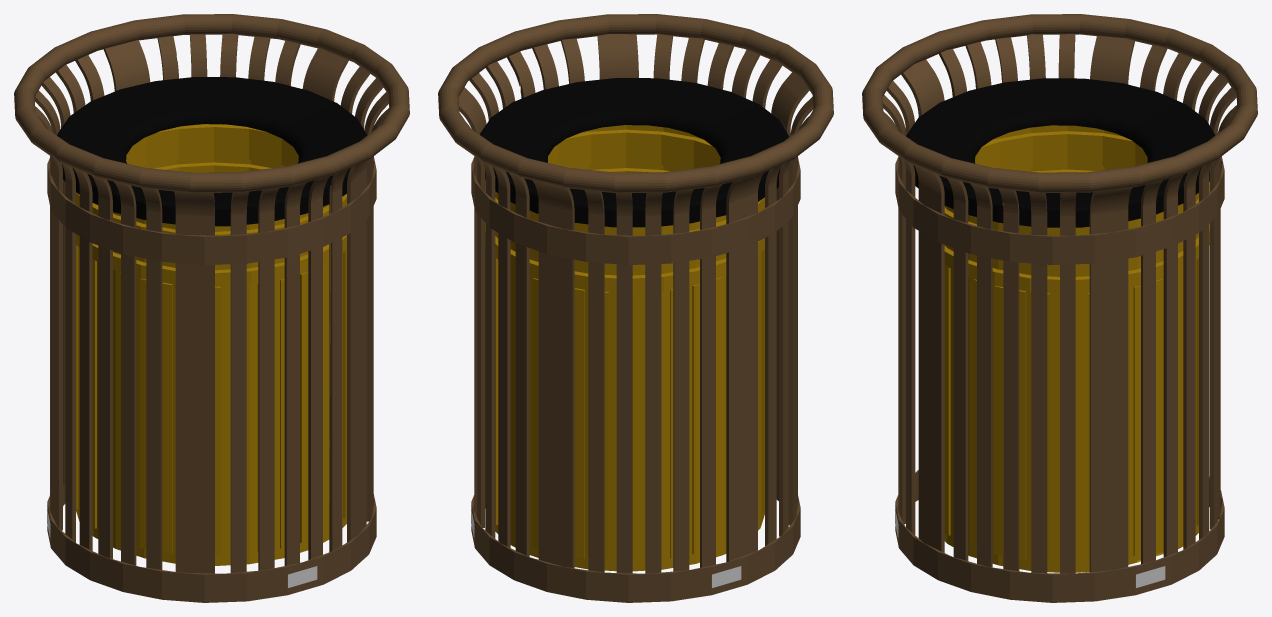
The picture shows the model from 3 angles, left to right: view 1: azimuth 30°, elevation 25°; view 2: azimuth 150°, elevation 25°; view 3: azimuth 270°, elevation 25°; orthographic projection.
Parts seen in each view (by area): view 1: mesh81_mesh81-geometry, mesh1_mesh1-geometry, mesh139_mesh139-geometry, mesh123_mesh123-geometry, mesh158_mesh158-geometry, mesh114_mesh114-geometry, mesh125_mesh125-geometry, mesh152_mesh152-geometry, mesh112_mesh112-geometry, mesh106_mesh106-geometry, mesh108_mesh108-geometry, mesh173_mesh173-geometry (+29 smaller); view 2: mesh81_mesh81-geometry, mesh1_mesh1-geometry, mesh139_mesh139-geometry, mesh102_mesh102-geometry, mesh121_mesh121-geometry, mesh158_mesh158-geometry, mesh114_mesh114-geometry, mesh165_mesh165-geometry, mesh163_mesh163-geometry, mesh156_mesh156-geometry, mesh167_mesh167-geometry, mesh110_mesh110-geometry (+31 smaller); view 3: mesh81_mesh81-geometry, mesh1_mesh1-geometry, mesh139_mesh139-geometry, mesh127_mesh127-geometry, mesh158_mesh158-geometry, mesh114_mesh114-geometry, mesh125_mesh125-geometry, mesh133_mesh133-geometry, mesh131_mesh131-geometry, mesh129_mesh129-geometry, mesh144_mesh144-geometry, mesh146_mesh146-geometry (+32 smaller).
Part boxes in pixels (x1,y1,x2,y2): mesh81_mesh81-geometry: (76,124,346,565); mesh1_mesh1-geometry: (57,77,367,226); mesh139_mesh139-geometry: (14,14,409,192); mesh123_mesh123-geometry: (174,191,214,573); mesh158_mesh158-geometry: (47,156,376,264); mesh114_mesh114-geometry: (47,484,376,602); mesh125_mesh125-geometry: (347,160,367,542); mesh152_mesh152-geometry: (258,188,279,570); mesh112_mesh112-geometry: (230,191,249,572); mesh106_mesh106-geometry: (141,188,162,569); mesh108_mesh108-geometry: (113,181,136,565); mesh173_mesh173-geometry: (284,182,307,565); mesh81_mesh81-geometry: (485,125,764,571); mesh1_mesh1-geometry: (480,78,789,227); mesh139_mesh139-geometry: (438,14,833,192); mesh102_mesh102-geometry: (532,180,574,568); mesh121_mesh121-geometry: (726,172,764,562); mesh158_mesh158-geometry: (471,157,800,264); mesh114_mesh114-geometry: (471,480,800,602); mesh165_mesh165-geometry: (645,192,662,573); mesh163_mesh163-geometry: (584,190,604,572); mesh156_mesh156-geometry: (673,189,693,571); mesh167_mesh167-geometry: (615,193,632,573); mesh110_mesh110-geometry: (700,184,722,567); mesh81_mesh81-geometry: (944,125,1209,572); mesh1_mesh1-geometry: (906,78,1215,227); mesh139_mesh139-geometry: (862,14,1257,192); mesh127_mesh127-geometry: (1089,187,1132,571); mesh158_mesh158-geometry: (895,156,1224,264); mesh114_mesh114-geometry: (895,470,1224,602); mesh125_mesh125-geometry: (914,165,944,552); mesh133_mesh133-geometry: (998,189,1019,571); mesh131_mesh131-geometry: (1029,192,1047,573); mesh129_mesh129-geometry: (1060,192,1076,573); mesh144_mesh144-geometry: (970,183,992,567); mesh146_mesh146-geometry: (947,178,968,560).
Size of the model in its own units: 0.5347 by 0.6544 by 0.5347.
